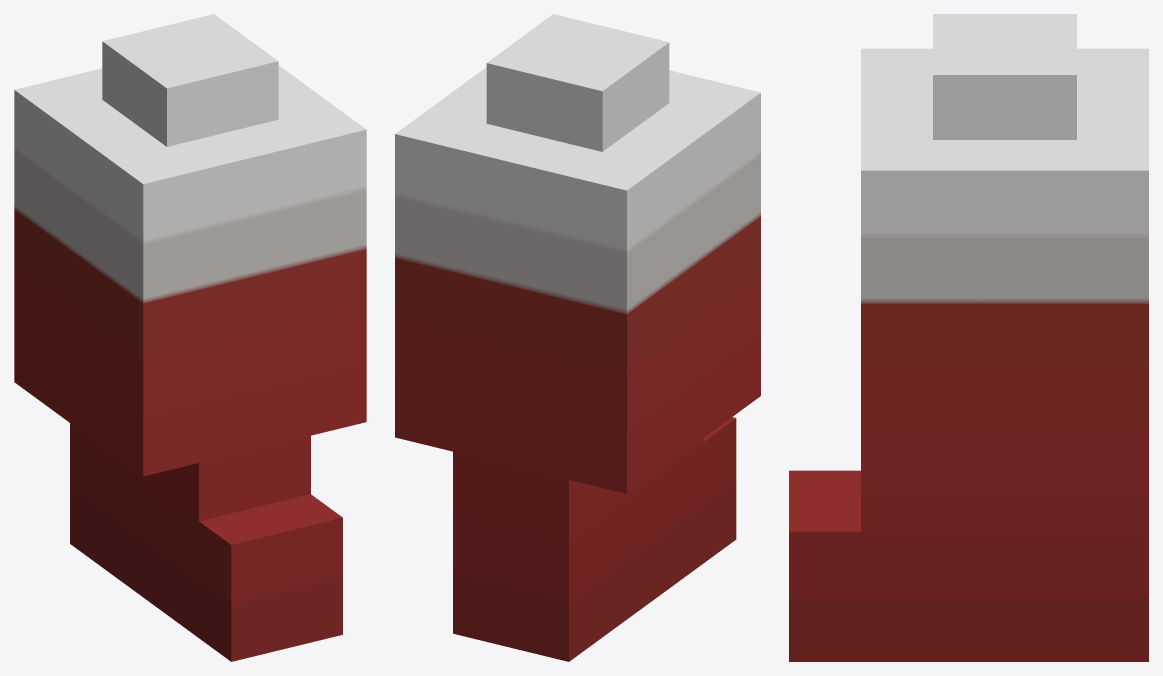
Rendered from Knee065.fbx.
The picture shows the model from 3 angles, left to right: view 1: azimuth 30°, elevation 25°; view 2: azimuth 150°, elevation 25°; view 3: azimuth 270°, elevation 25°; orthographic projection. The views are drawn at different scales.
Parts seen in each view (by area): view 1: Knee065; view 2: Knee065; view 3: Knee065.
Part boxes in pixels (x1,y1,x2,y2): Knee065: (14,14,366,661); Knee065: (395,14,760,661); Knee065: (789,14,1148,661).
Bounding box in the file's own units: 4 × 9 × 5.
